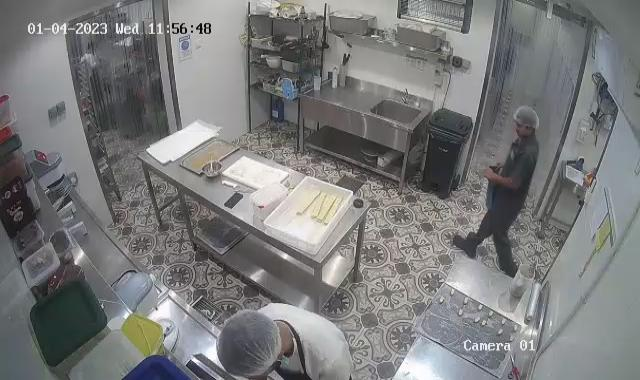hairnet: (218, 307, 283, 376), (514, 102, 540, 133)
